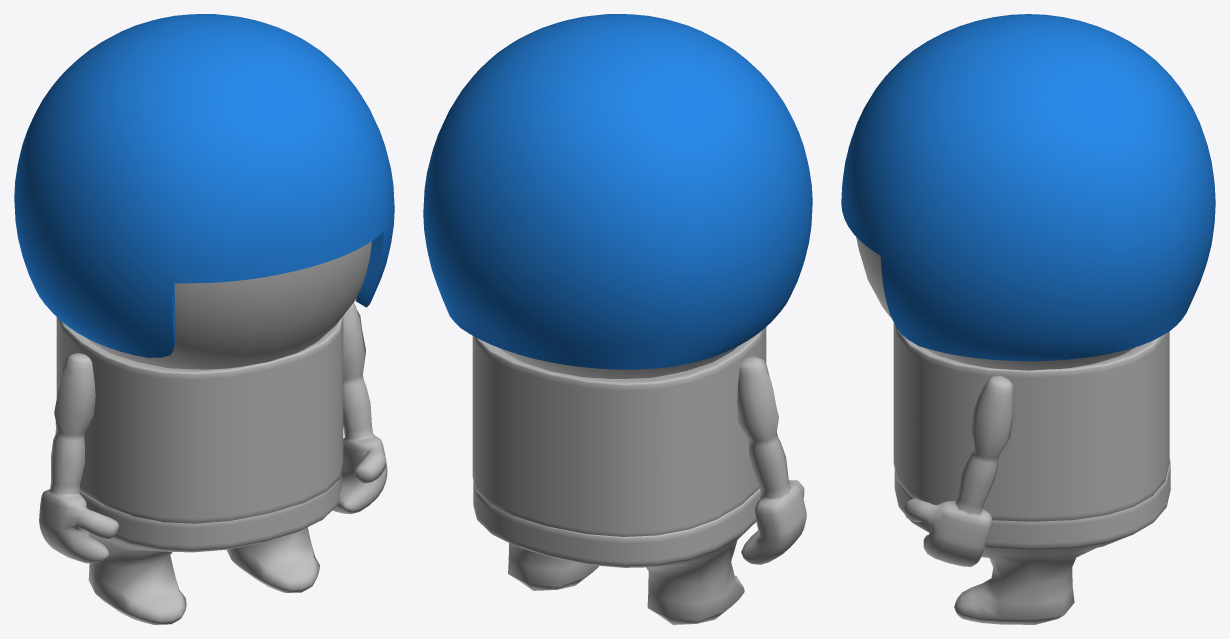
The model's file is objet.glb.
The picture shows the model from 3 angles, left to right: view 1: azimuth 30°, elevation 25°; view 2: azimuth 150°, elevation 25°; view 3: azimuth 270°, elevation 25°; orthographic projection. The views are drawn at different scales.
Parts seen in each view (by area): view 1: Racer_Helmet, Torso, Pants, Head, RArm, LArm; view 2: Racer_Helmet, Torso, Pants, RArm, Head; view 3: Racer_Helmet, Torso, Pants, LArm, Head.
Boxes of the visible parts, box(x1,y1,x2,y2) form: Racer_Helmet: box(14, 14, 394, 357); Torso: box(56, 316, 343, 523); Pants: box(79, 472, 341, 624); Head: box(87, 241, 371, 369); RArm: box(39, 353, 119, 563); LArm: box(332, 302, 387, 513); Racer_Helmet: box(423, 14, 812, 369); Torso: box(472, 327, 766, 536); Pants: box(473, 481, 761, 624); RArm: box(737, 356, 806, 564); Head: box(499, 347, 736, 378); Racer_Helmet: box(841, 14, 1215, 361); Torso: box(893, 322, 1169, 521); Pants: box(894, 459, 1170, 624); LArm: box(904, 375, 1014, 566); Head: box(856, 237, 1135, 370).
Bounding box in the file's own units: 0.6248 × 0.9966 × 0.6145.
